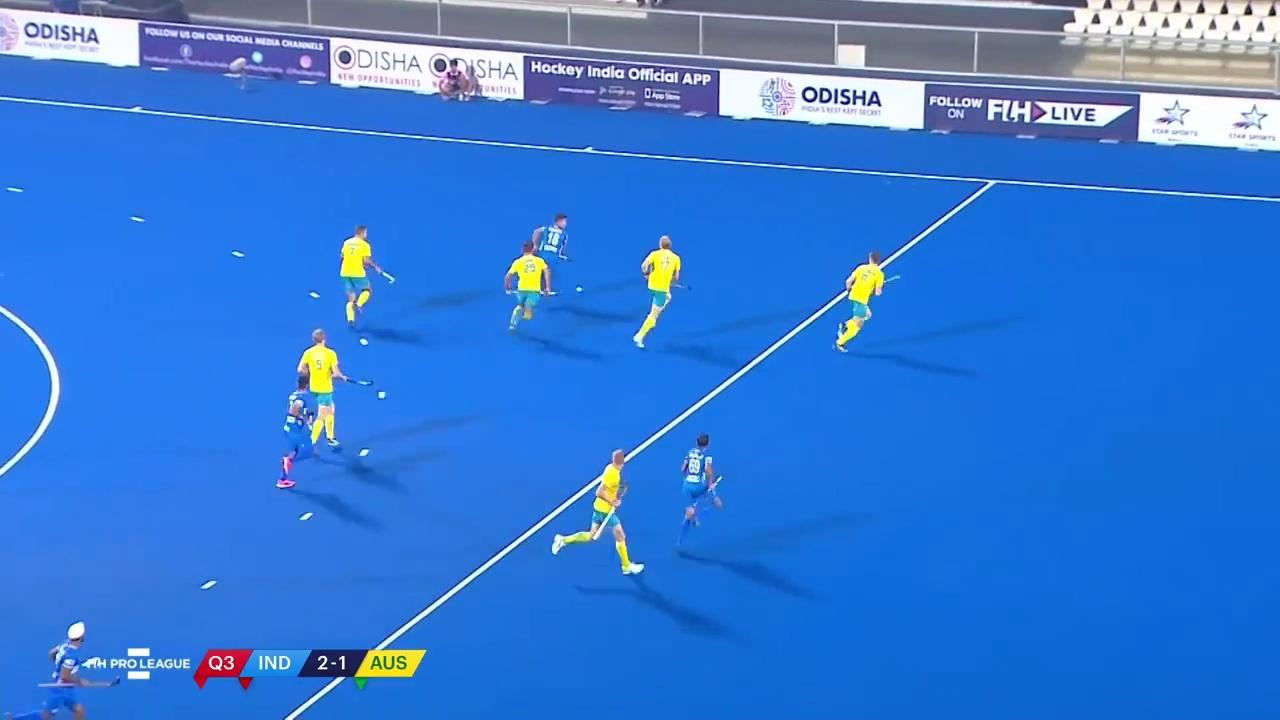ball: (570, 281, 587, 296)
